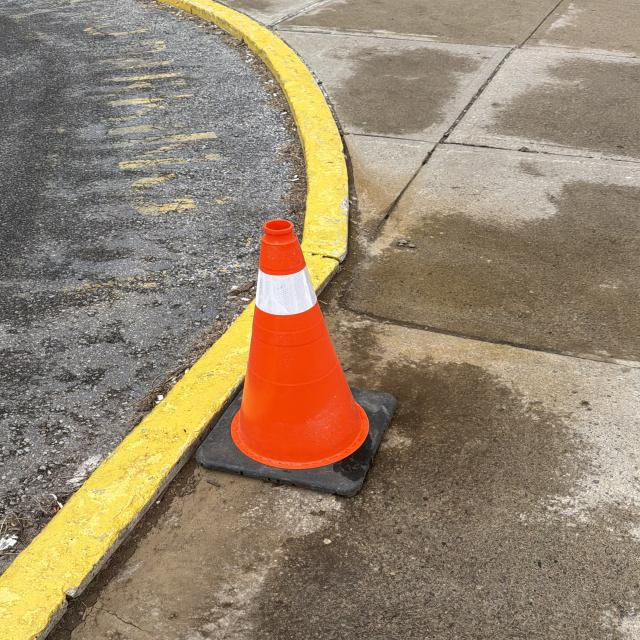Traffic Cone: (192, 219, 391, 495)
